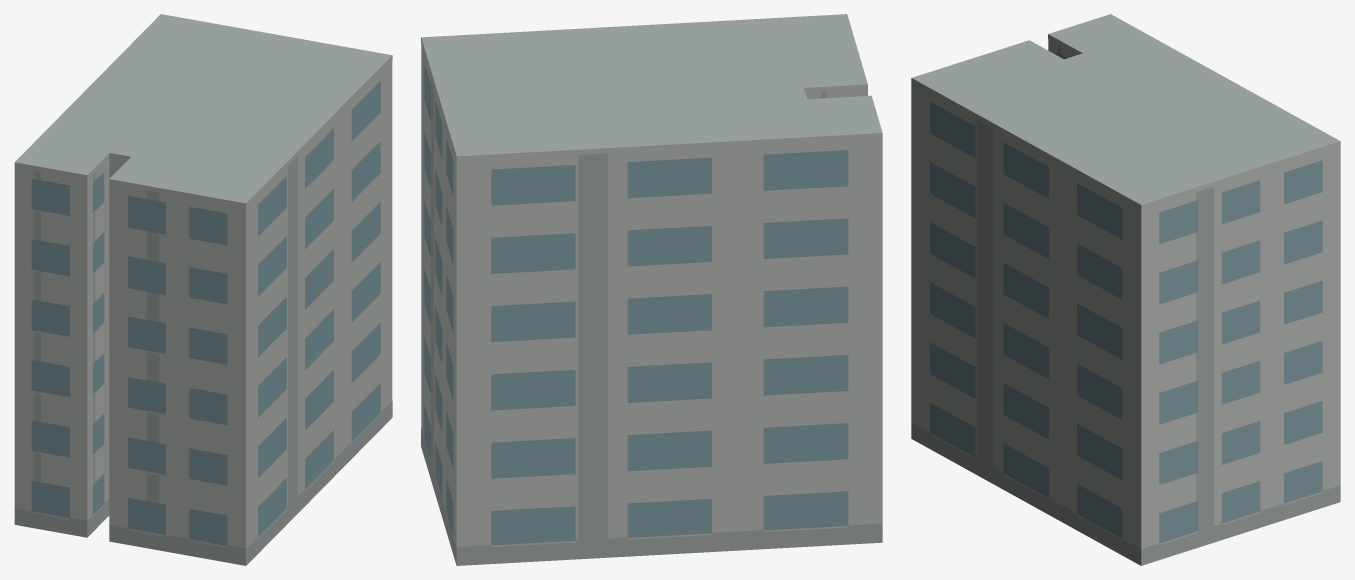
File: survey-upis-33043245.glb
3 views of the same model, side by side, from view 1: azimuth 30°, elevation 25°; view 2: azimuth 150°, elevation 25°; view 3: azimuth 270°, elevation 25° (orthographic). The views are drawn at different scales.
Parts seen in each view (by area): view 1: survey-upis-33043245.tmp; view 2: survey-upis-33043245.tmp; view 3: survey-upis-33043245.tmp.
Boxes of the visible parts, box(x1,y1,x2,y2) form: survey-upis-33043245.tmp: box(14, 14, 392, 565); survey-upis-33043245.tmp: box(421, 14, 882, 565); survey-upis-33043245.tmp: box(911, 14, 1340, 565).
Bounding box in the file's own units: 20.78 × 18.3 × 19.72.
